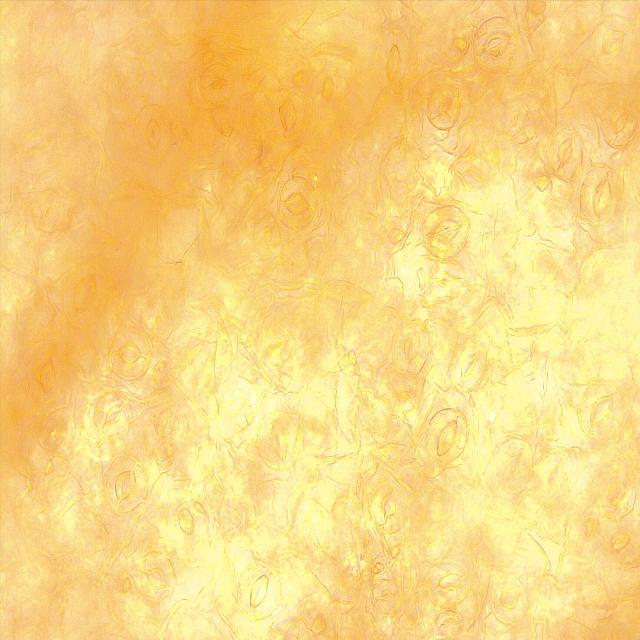Stomata: (61, 260, 109, 332), (471, 12, 519, 72), (236, 561, 283, 622), (256, 409, 300, 472), (102, 455, 148, 515), (424, 406, 470, 466), (107, 324, 153, 383), (422, 204, 470, 259), (577, 382, 624, 438), (25, 340, 65, 404), (134, 102, 174, 165), (580, 164, 620, 225), (135, 550, 177, 604), (375, 30, 411, 93), (392, 322, 431, 377), (277, 176, 316, 231), (494, 438, 535, 490), (592, 15, 633, 66), (449, 152, 490, 203), (489, 572, 528, 625), (547, 128, 583, 184), (270, 89, 306, 143), (452, 340, 488, 393), (93, 391, 132, 439), (428, 561, 468, 607), (369, 484, 405, 535), (601, 101, 635, 148), (427, 86, 461, 131), (200, 63, 234, 107), (428, 261, 466, 299)
